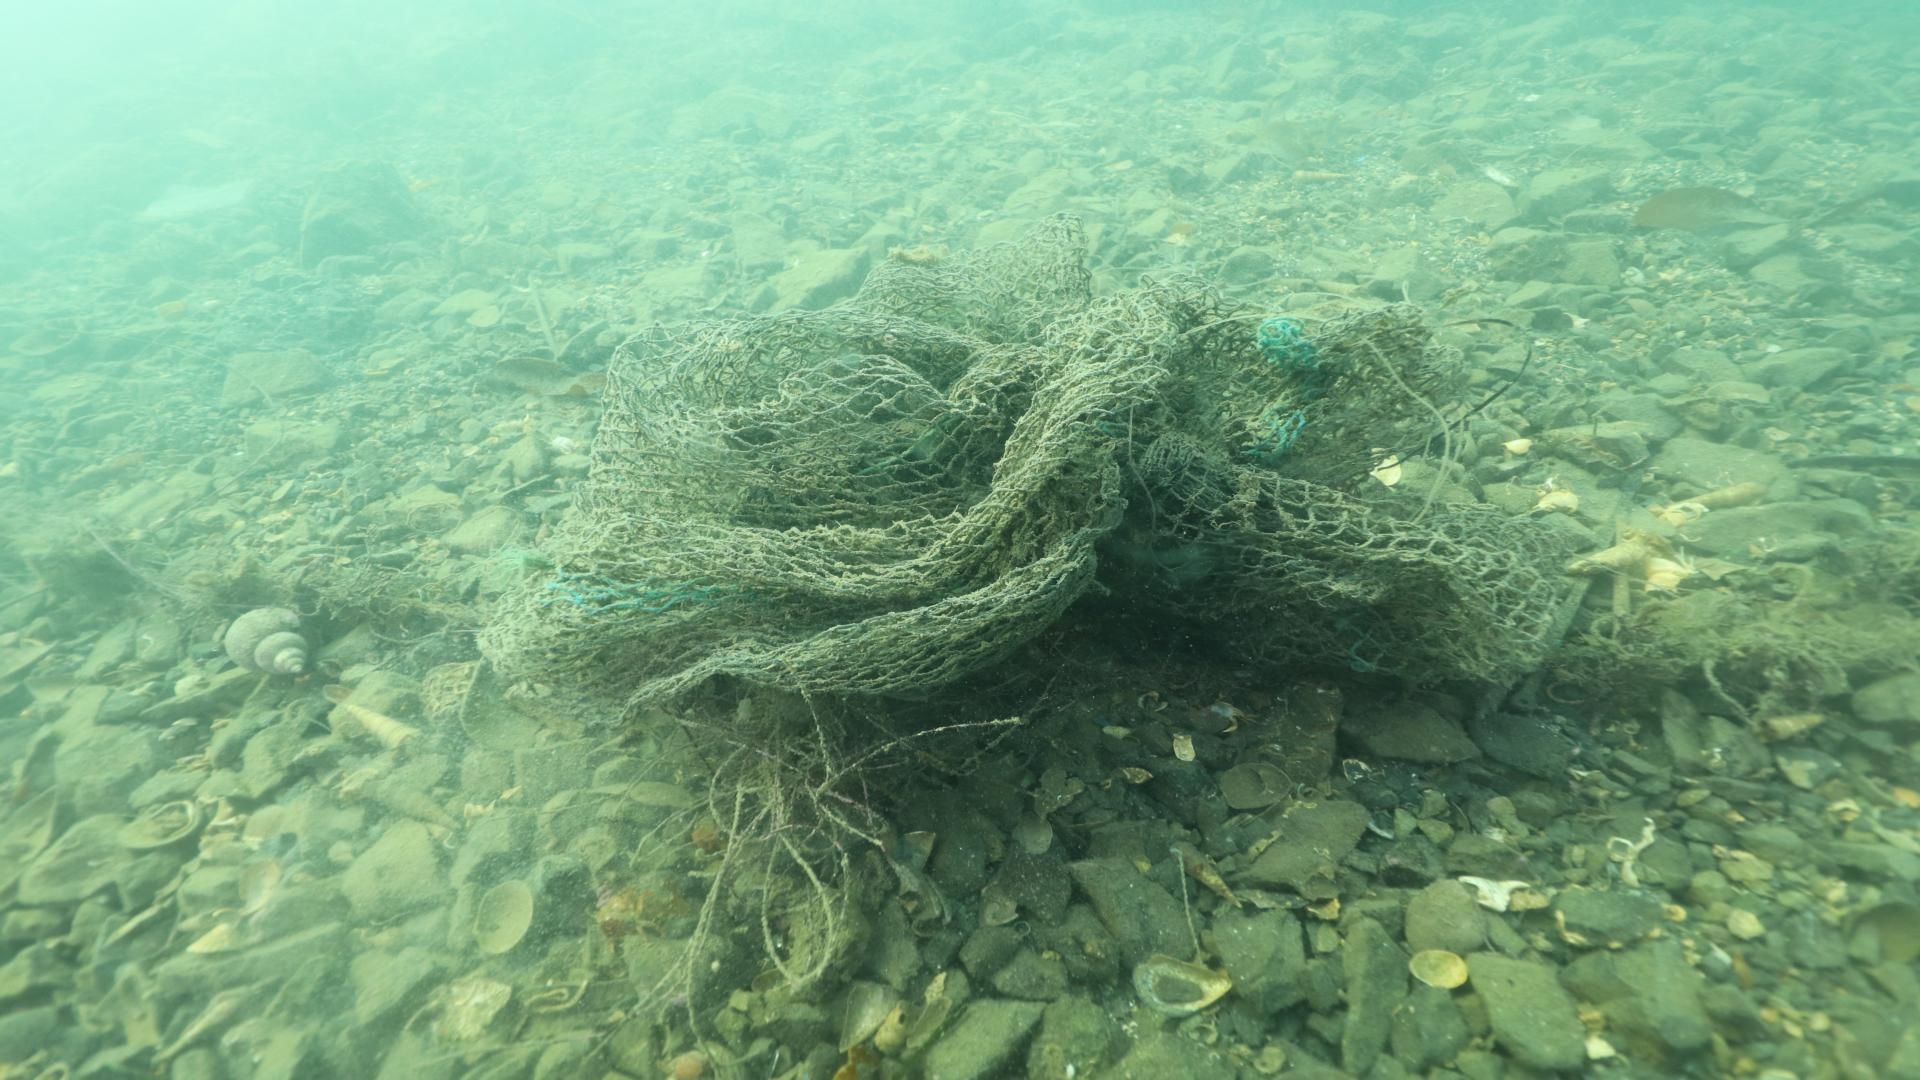fish net: (477, 210, 1559, 723)
